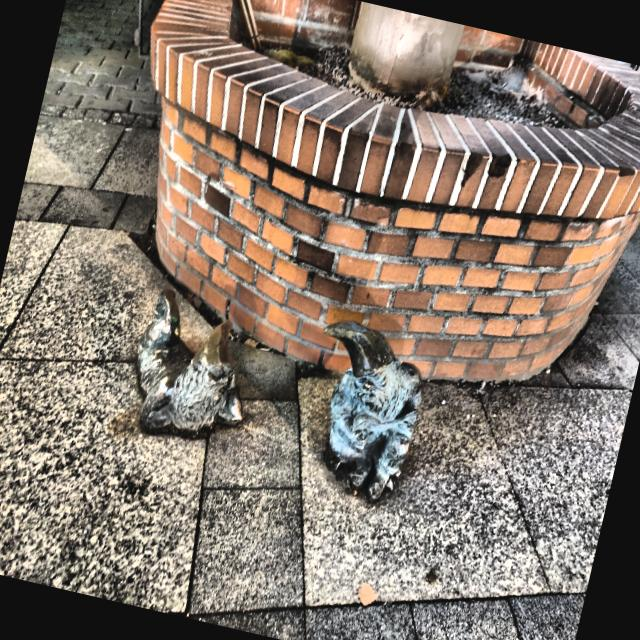Grajek_i_Meloman: (136, 289, 422, 502)
